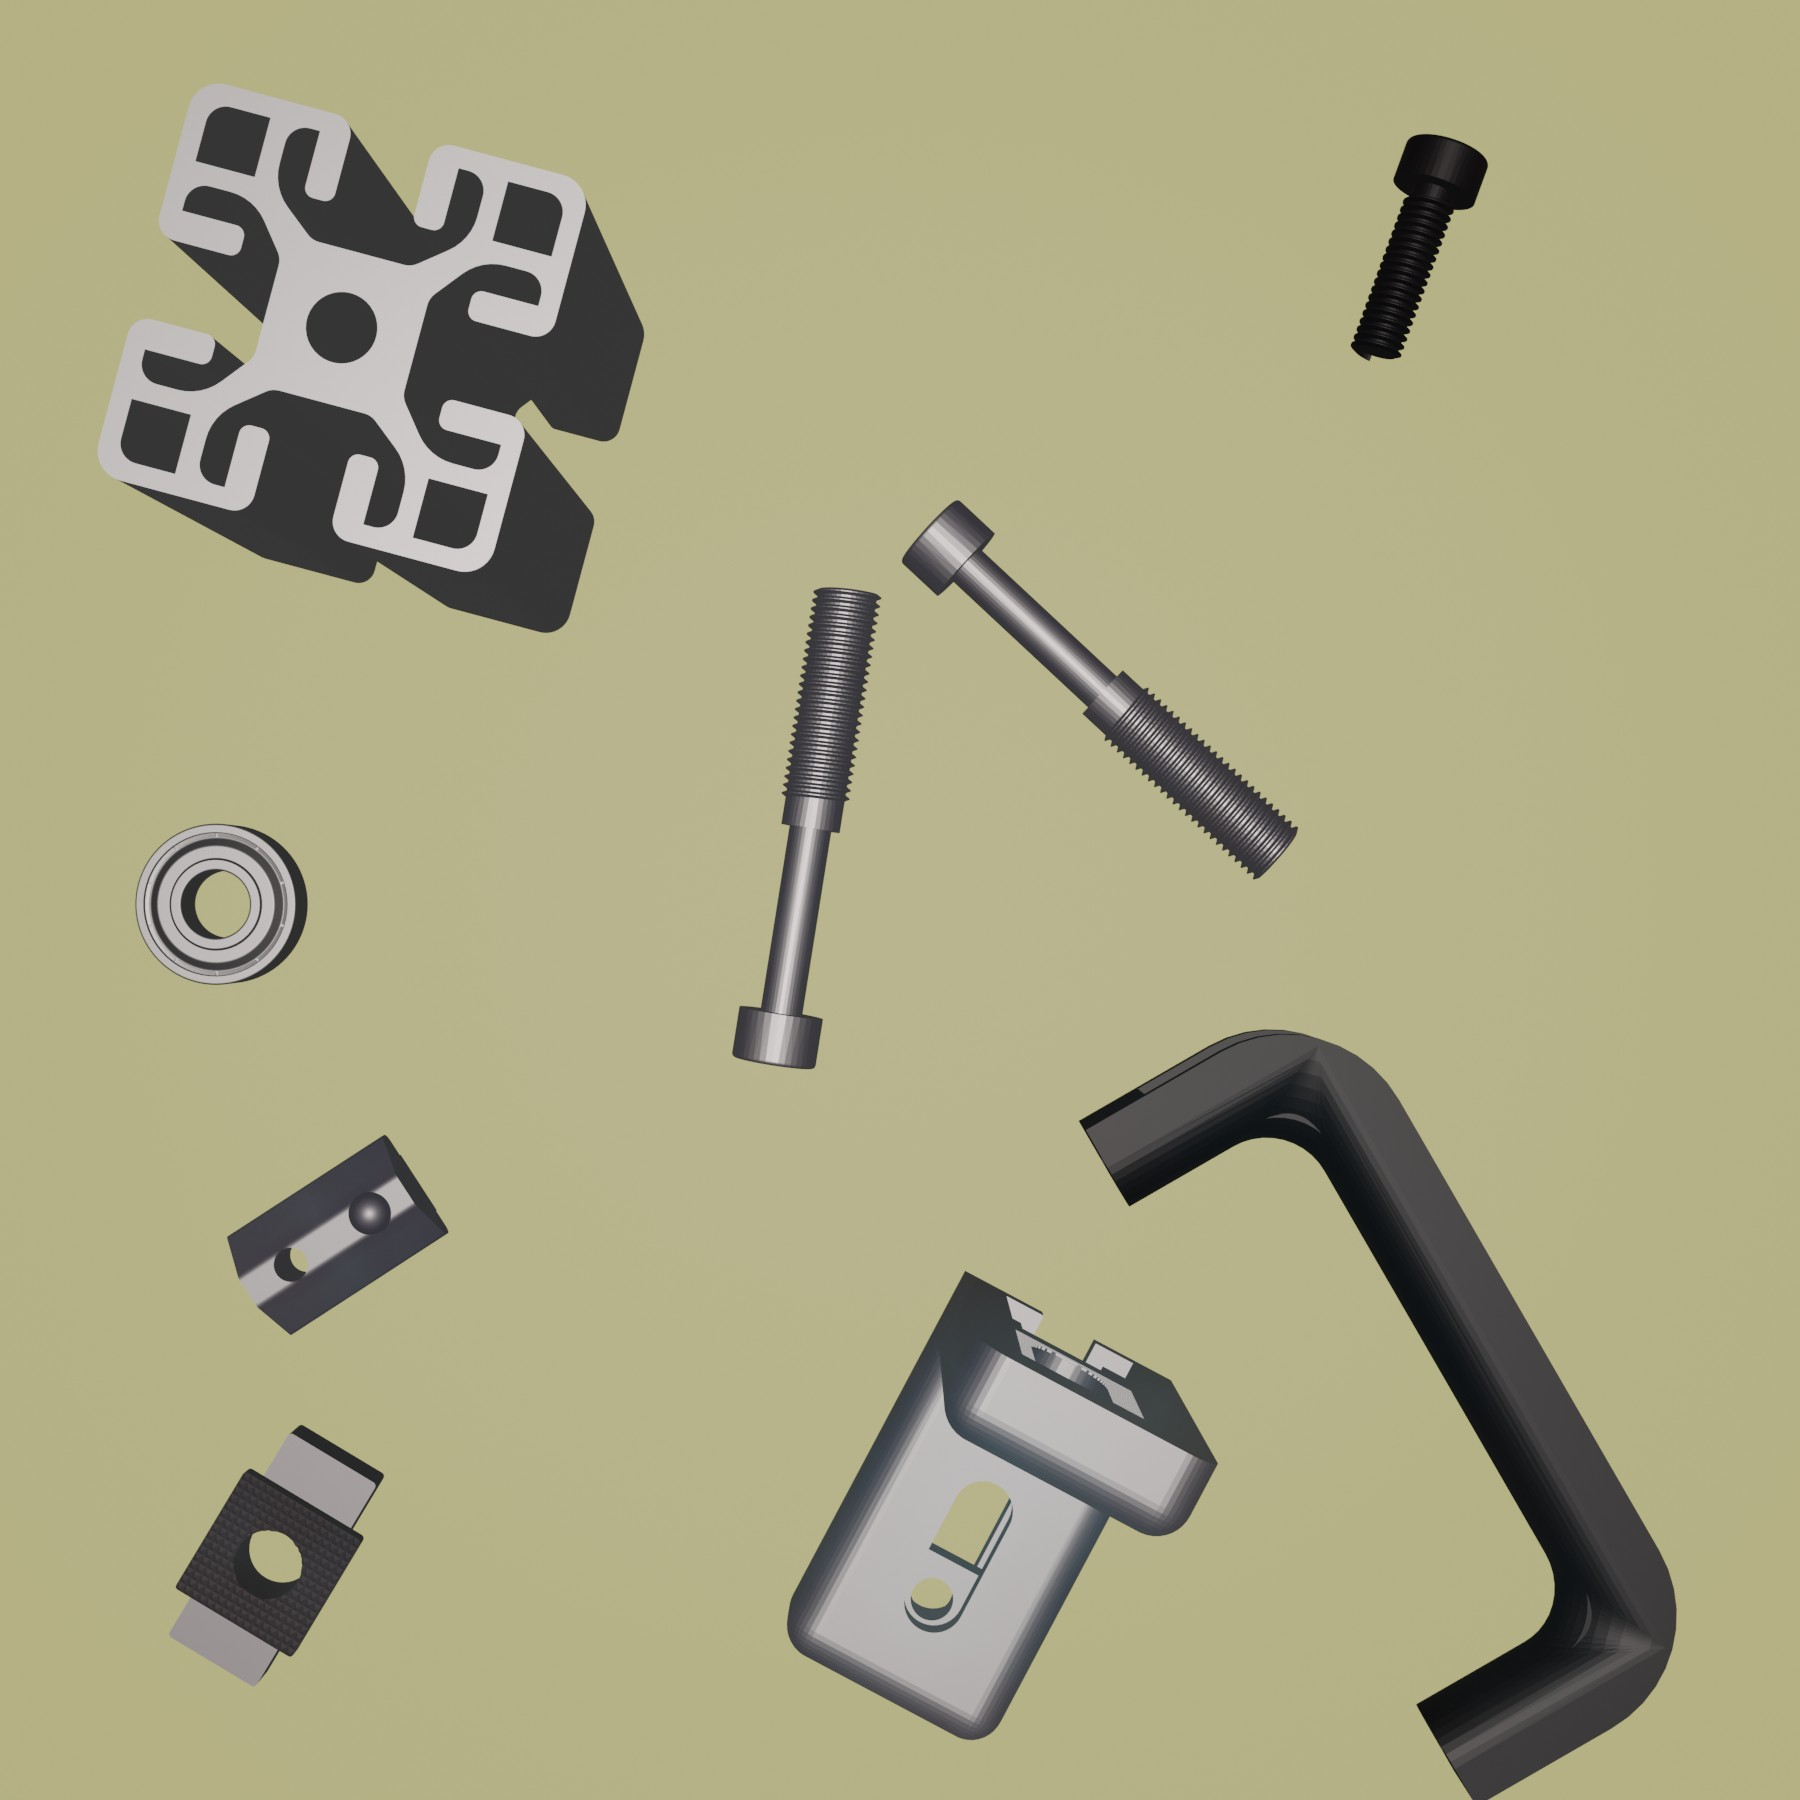Aluminium Extension: (96, 81, 646, 635)
Ball Bearing: (134, 823, 308, 987)
Multiwinkel: (786, 1264, 1220, 1741)
Pull Handle: (1078, 1027, 1678, 1800)
Shoulder Socket Head Cap Screw: (898, 499, 1301, 880), (727, 584, 884, 1071)
Socket Head Cap Screw: (1347, 130, 1488, 366)
T Nut Square: (166, 1419, 387, 1691)
T Spring Nut: (224, 1131, 452, 1337)
